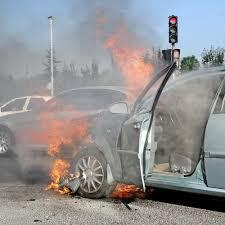fire: (31, 108, 90, 193), (103, 28, 157, 101), (110, 179, 141, 198)
